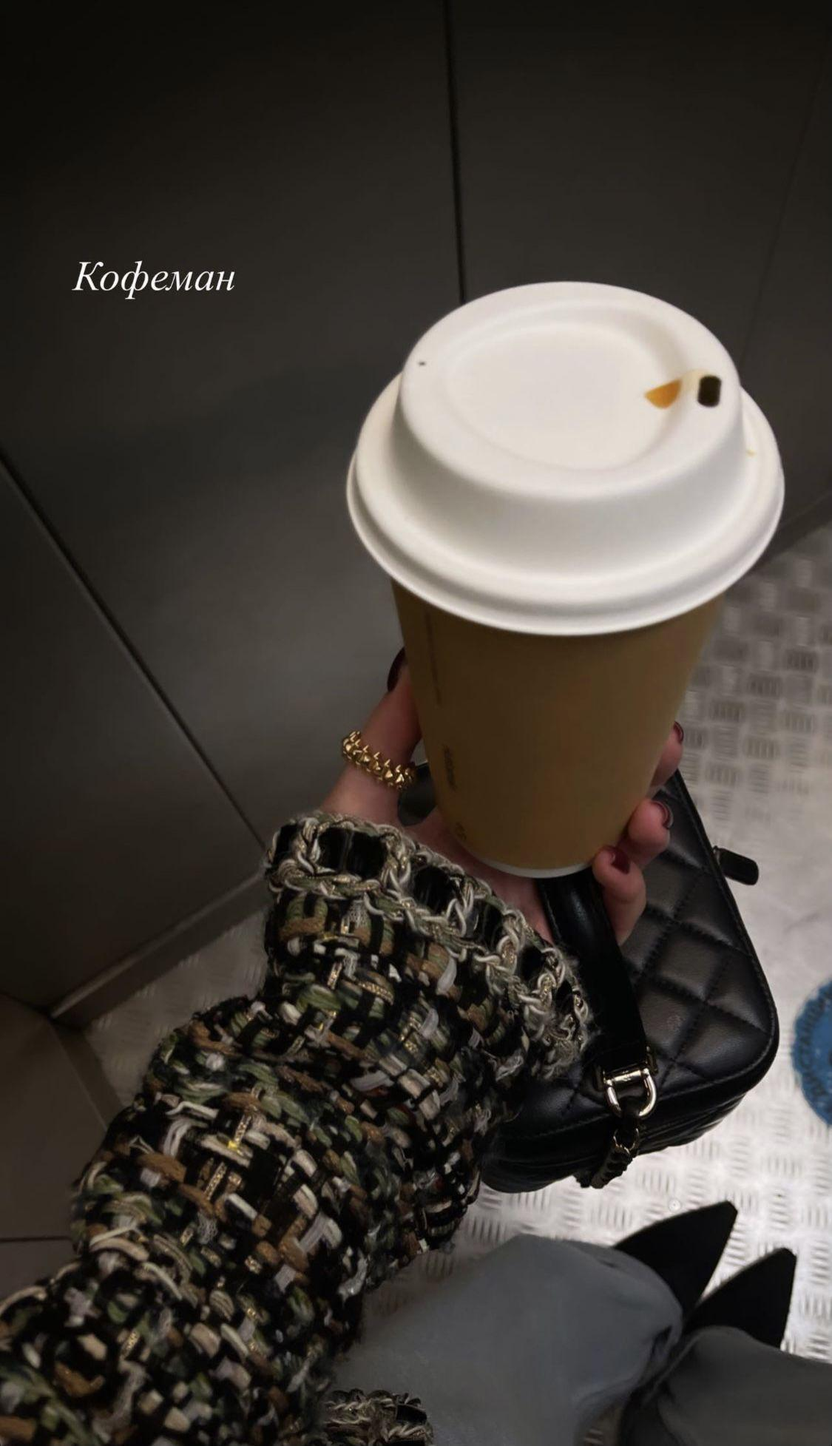cup-disposable: (334, 277, 785, 888)
